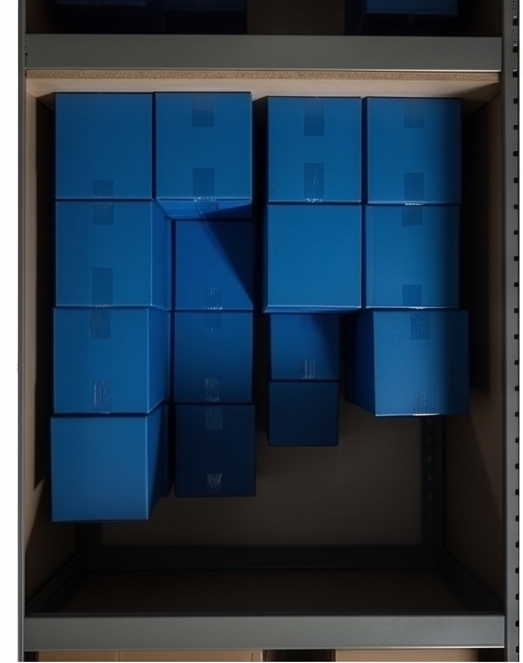blue_box: (51, 402, 163, 521), (345, 310, 468, 415), (154, 91, 251, 221), (55, 201, 168, 308), (53, 308, 167, 413), (262, 203, 361, 316), (54, 92, 151, 199), (265, 97, 361, 202), (367, 97, 460, 204), (364, 205, 460, 308), (174, 403, 254, 497), (173, 312, 252, 403), (173, 221, 251, 311), (268, 312, 338, 379), (269, 381, 338, 446)
